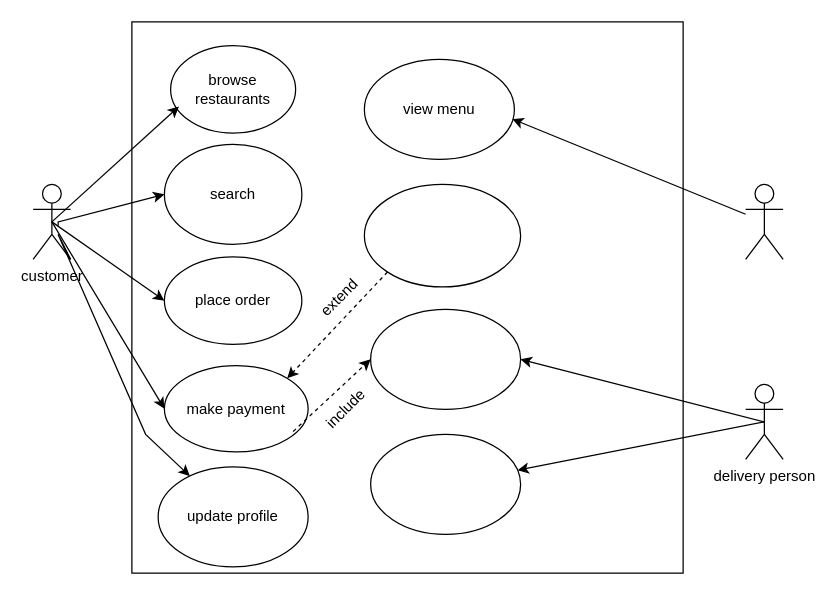
Image size: 836x595. Some labels were removed from this diagram. Each missing label, with the centre of its shape:
complete order: the point at 445,483
re-payment: the point at 442,235
restaurant: the point at 763,221
track order: the point at 445,358
